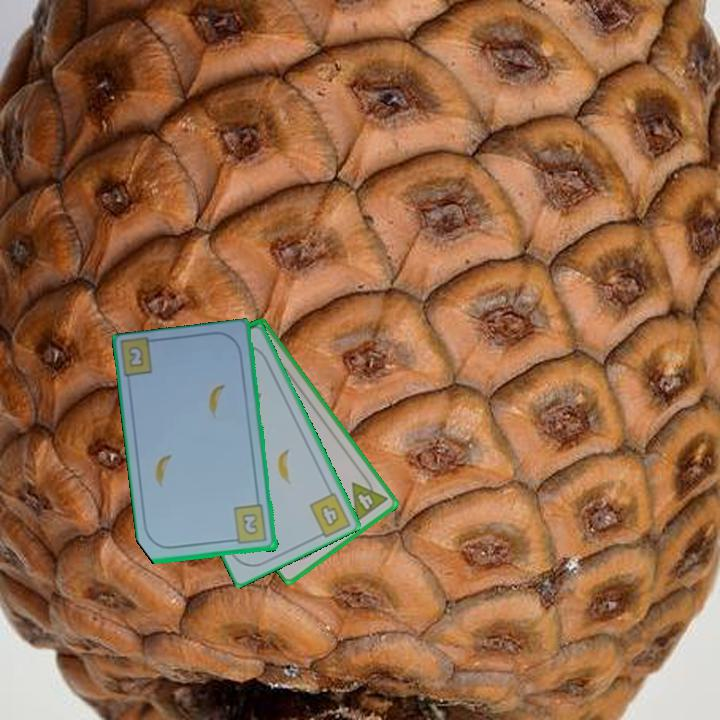2b: (228, 502, 270, 547), (124, 343, 147, 371)
4b: (317, 501, 342, 530)
4p: (348, 471, 390, 525)
